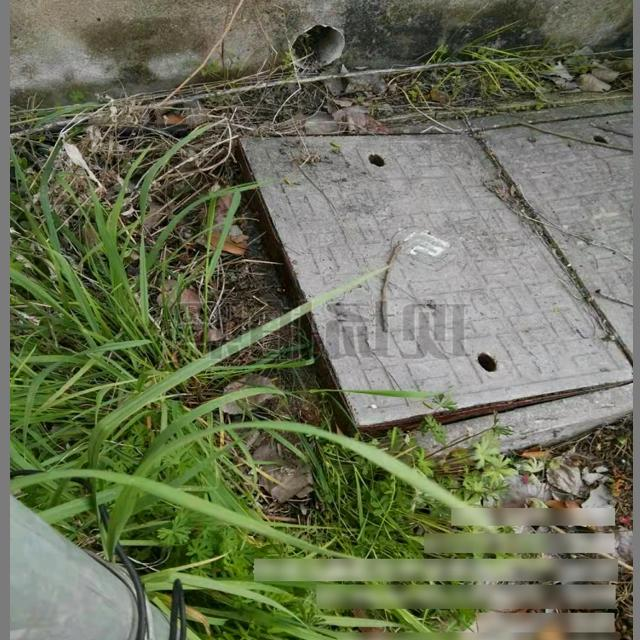uncovered: (226, 98, 632, 457)
